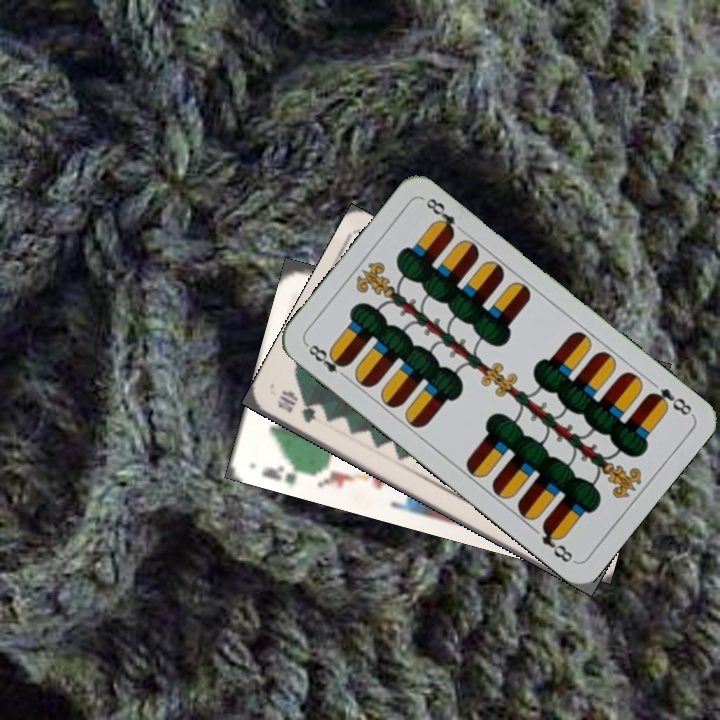E8: (302, 340, 351, 383), (644, 383, 696, 419)
G10: (273, 386, 319, 426)
GK: (257, 459, 313, 488)
